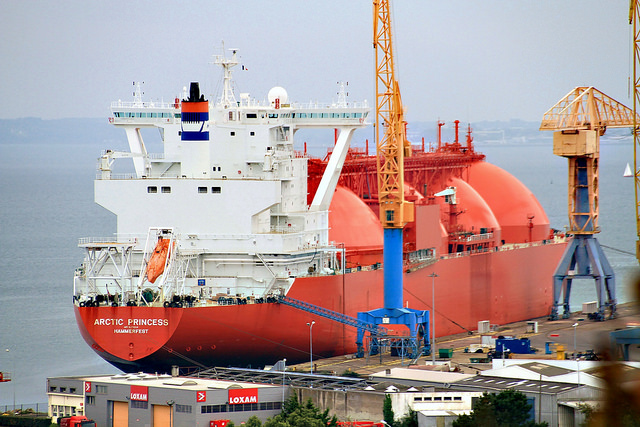LNG_ship: (71, 48, 576, 332)
boat: (621, 163, 634, 179)
